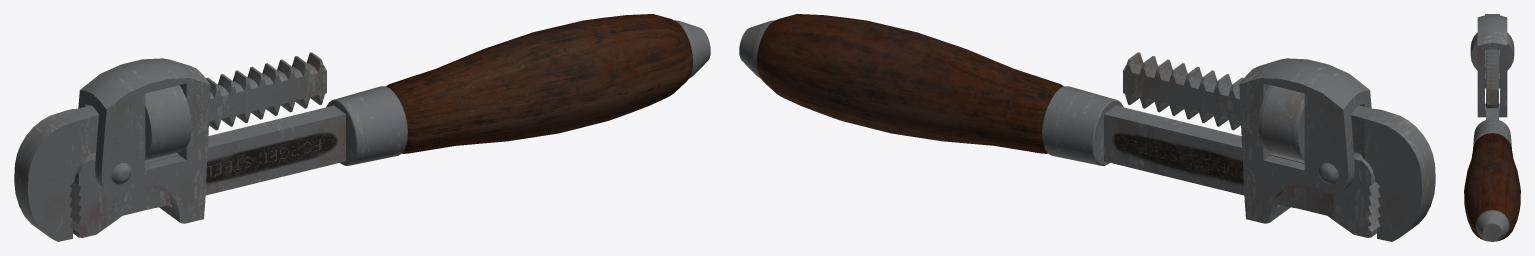
The picture shows the model from 3 angles, left to right: view 1: azimuth 30°, elevation 25°; view 2: azimuth 150°, elevation 25°; view 3: azimuth 270°, elevation 25°; orthographic projection. The views are drawn at different scales.
Visible parts, largest first — view 1: iron3_lp; view 2: iron3_lp; view 3: iron3_lp.
Boxes of the visible parts, x1,y1,x2,y2 form: iron3_lp: (14,14,710,241); iron3_lp: (739,14,1435,241); iron3_lp: (1464,14,1520,241).
Bounding box in the file's own units: 18.99 × 4.31 × 2.5.
Materials: 1 (1 with a texture image).
